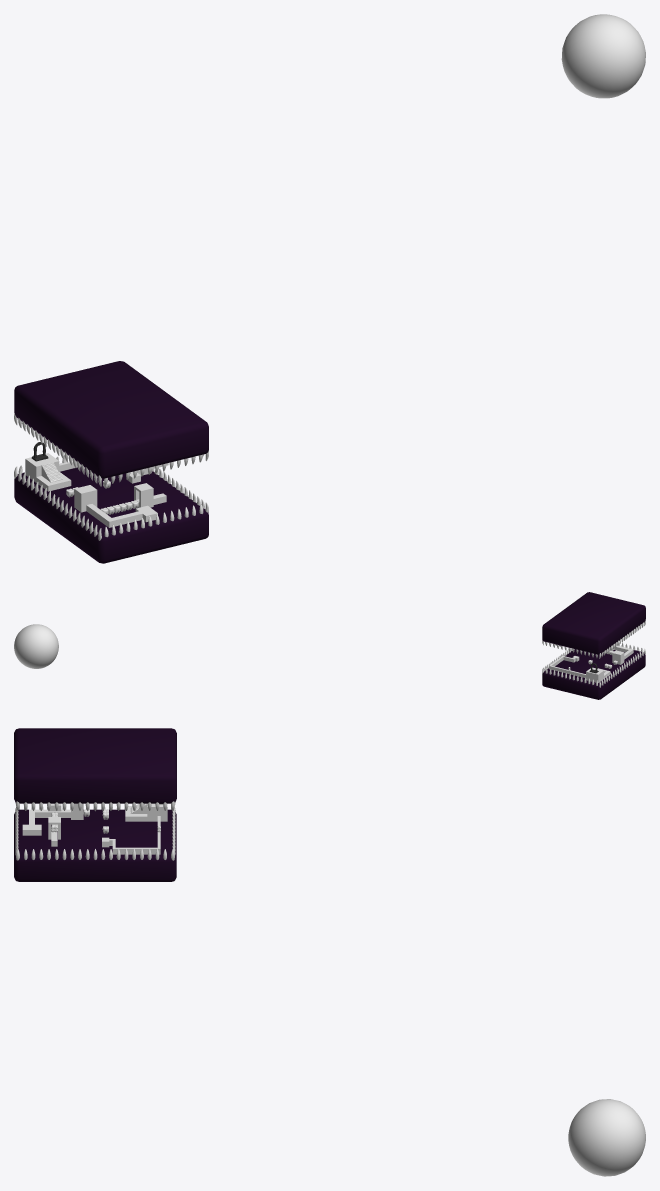
File: nivel2.fbx
3 views of the same model, one above another, from view 1: azimuth 30°, elevation 25°; view 2: azimuth 150°, elevation 25°; view 3: azimuth 270°, elevation 25° (orthographic). The views are drawn at different scales.
Visible parts, largest first — view 1: Cube.003, Cube.002, Sphere.012, Suelo1, colmillo.001, Cube; view 2: Cube.003, Cube.002, Sphere.012, Cube.004, Suelo1, colmillo.001, Cube, colmillo.005, colmillo.002; view 3: Cube.003, Cube.002, Sphere.012, colmillo, Suelo1, colmillo.004.
Part boxes in pixels (x1,y1,x2,y2): Cube.003: (14,361,208,478); Cube.002: (14,467,208,563); Sphere.012: (561,14,645,98); Suelo1: (74,485,157,527); colmillo.001: (14,466,101,540); Cube: (25,453,71,491); Cube.003: (542,592,645,654); Cube.002: (542,649,645,699); Sphere.012: (14,624,58,668); Cube.004: (549,656,585,677); Suelo1: (608,644,633,664); colmillo.001: (599,648,645,687); Cube: (586,667,610,682); colmillo.005: (599,620,645,658); colmillo.002: (545,668,597,685); Cube.003: (14,728,176,803); Cube.002: (14,809,176,881); Sphere.012: (568,1099,645,1176); colmillo: (16,849,174,860); Suelo1: (22,803,83,835); colmillo.004: (16,801,174,810).
Size of the model in its own units: 28494 by 3699 by 19655.
